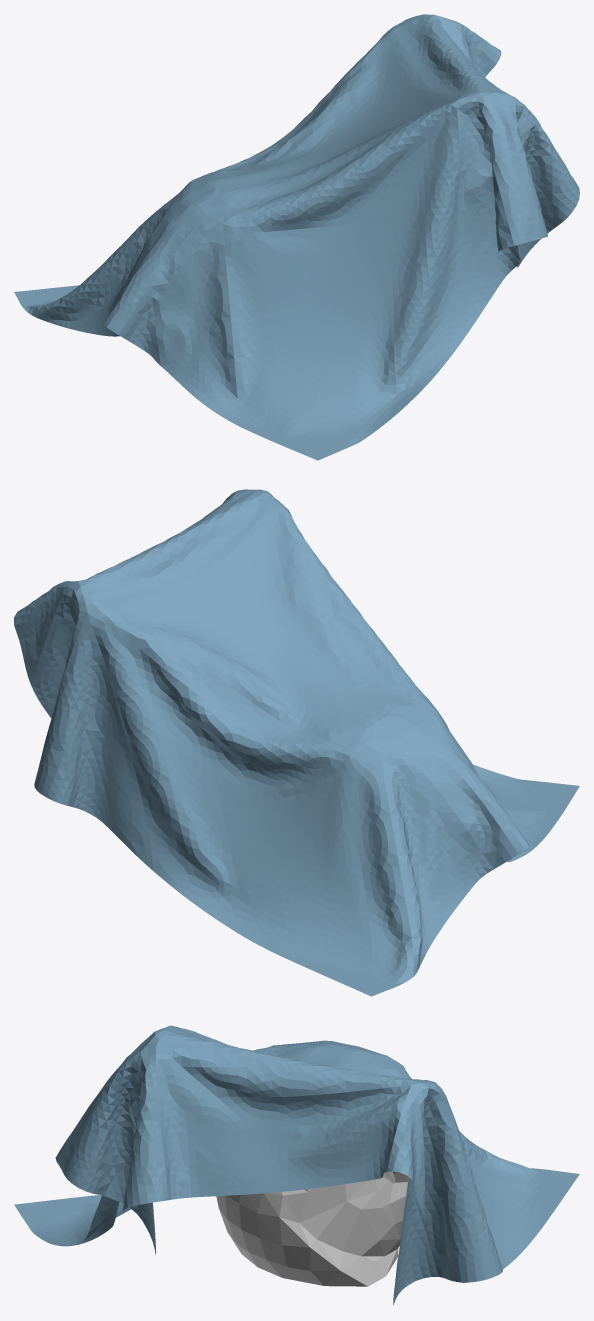
File: level_2.glb
3 renders of one model, top to bottom at view 1: azimuth 30°, elevation 25°; view 2: azimuth 150°, elevation 25°; view 3: azimuth 270°, elevation 25°, orthographic. The views are drawn at different scales.
Parts seen in each view (by area): view 1: world; view 2: world; view 3: world, object.obj.
Part boxes in pixels (x1,y1,x2,y2): world: [14, 14, 579, 460]; world: [14, 489, 579, 996]; world: [14, 1025, 579, 1305]; object.obj: [216, 1171, 408, 1286].
Bounding box in the file's own units: 0.5024 × 0.2924 × 0.4983.
